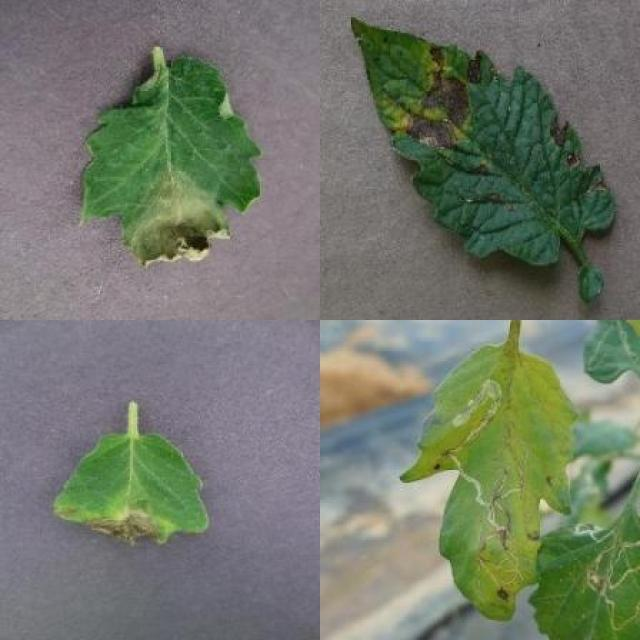Early Blight: (350, 17, 621, 270)
Late Blight: (81, 56, 262, 270), (55, 428, 214, 548)
Leaf Miner: (397, 344, 580, 620)
